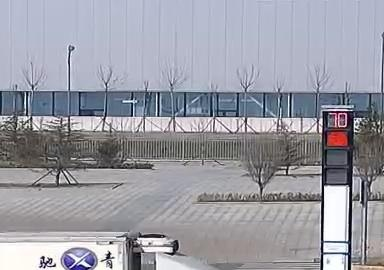red: (326, 131, 347, 146)
redtime: (326, 111, 348, 127)
